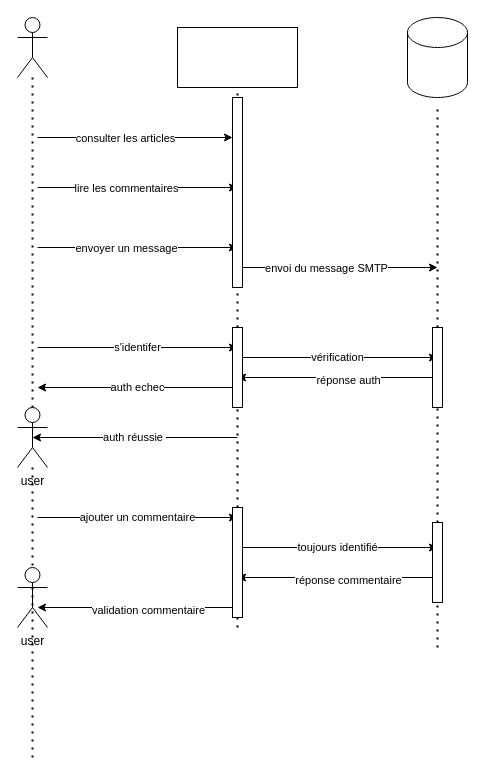
This 485x777 diagram has some shape labels left out. Here are the shapes that lost their labels. From the top down, the box of each, then its label:
(16, 16, 48, 78): invité
(176, 26, 298, 88): app
